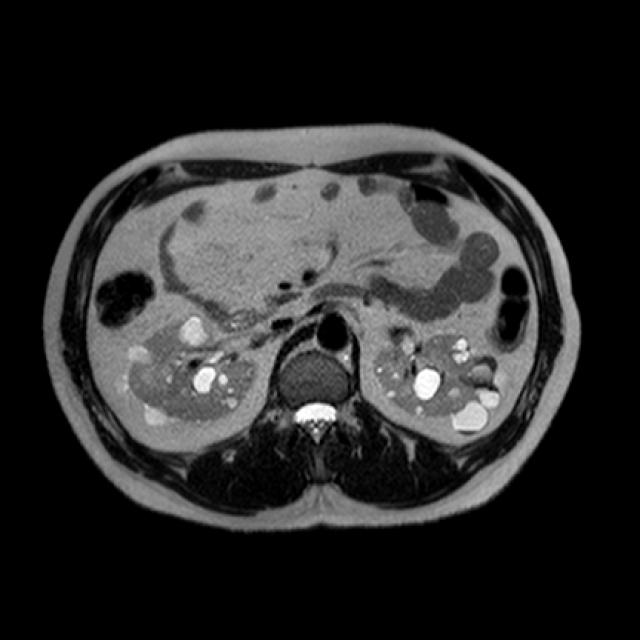sag: (114, 313, 257, 427)
sol: (369, 327, 502, 433)
